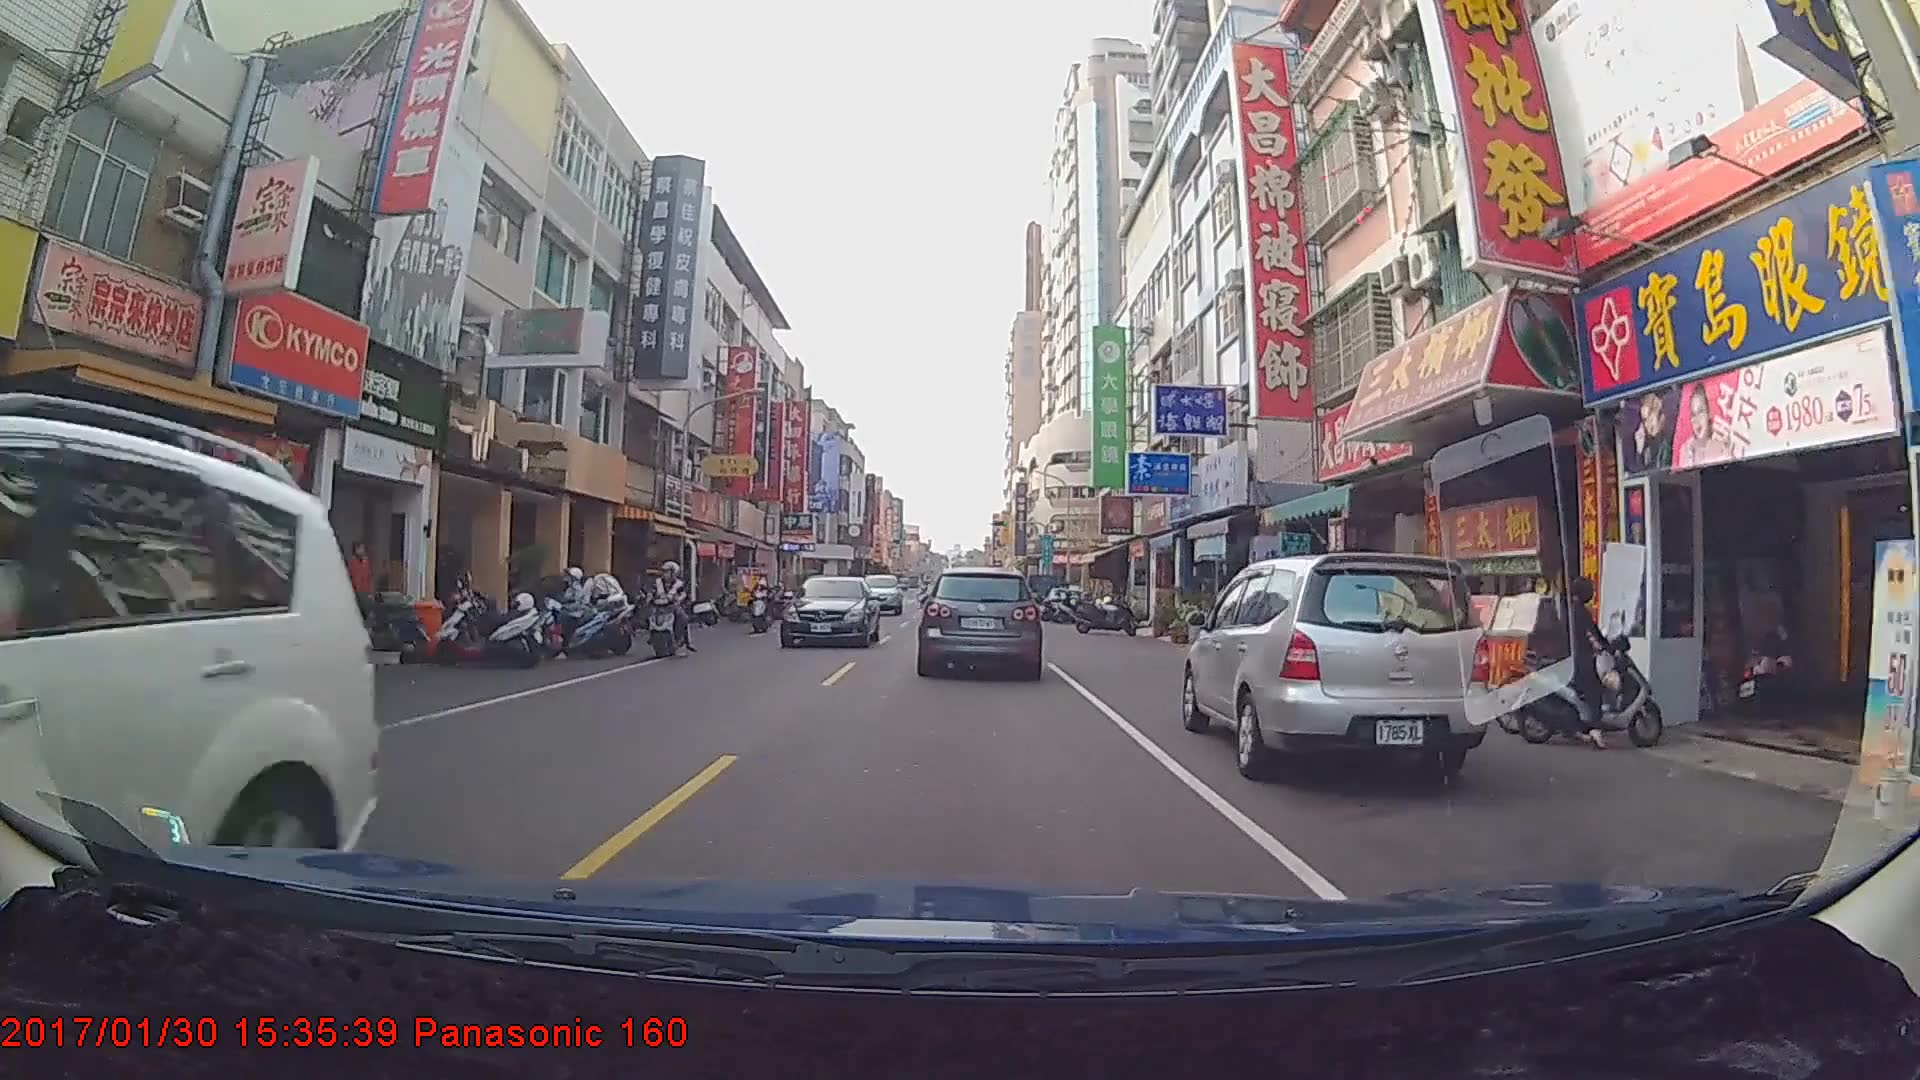pedestrian: (339, 535, 381, 636)
rider: (1507, 573, 1671, 758), (637, 556, 703, 658), (749, 577, 778, 631)
vehicle: (0, 413, 377, 1037), (1180, 553, 1488, 779), (918, 565, 1041, 677), (779, 575, 881, 649), (853, 572, 903, 614)
